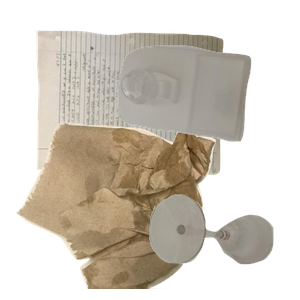glass: (147, 192, 300, 300)
paper: (32, 28, 249, 196)
plastic: (115, 43, 300, 177)
trash: (14, 120, 222, 300)
